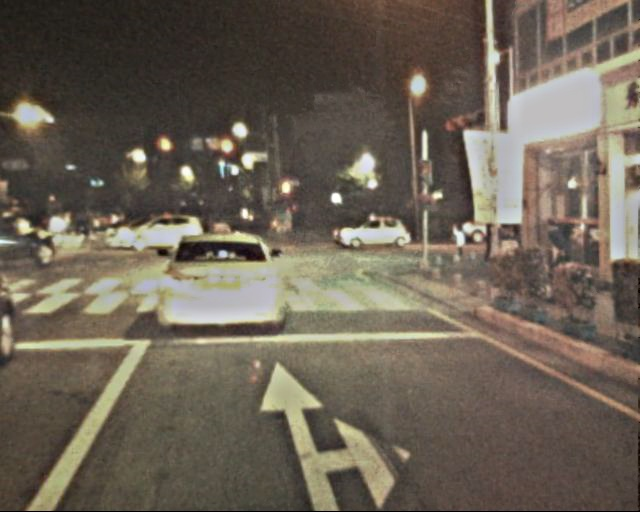person: (542, 217, 568, 293), (451, 218, 472, 266), (290, 206, 315, 229), (79, 202, 92, 234), (58, 202, 71, 233)
